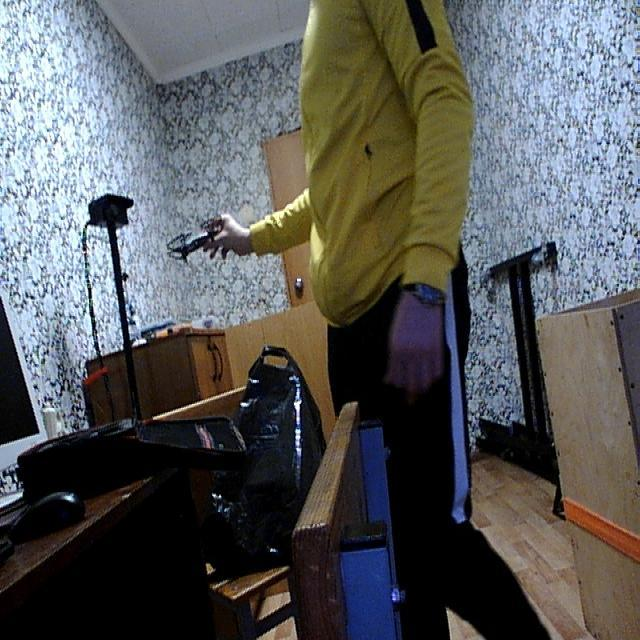drone: (161, 212, 249, 266)
